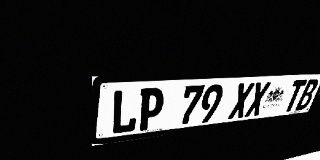7: (176, 85, 205, 126)
9: (197, 84, 225, 123)
B: (295, 79, 320, 111)
L: (110, 89, 140, 135)
P: (136, 87, 166, 131)
T: (282, 80, 307, 112)
X: (228, 82, 255, 119), (244, 82, 271, 117)
